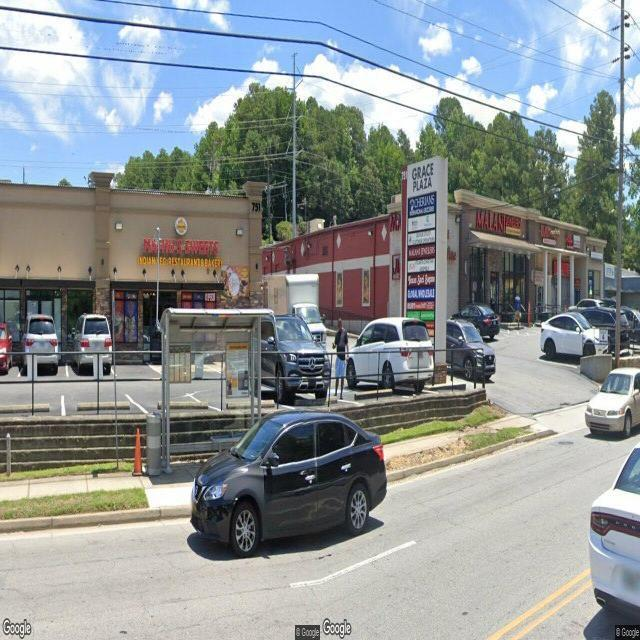seating: (208, 428, 236, 456)
shelter: (162, 306, 274, 470)
trash_can: (146, 410, 162, 475)
